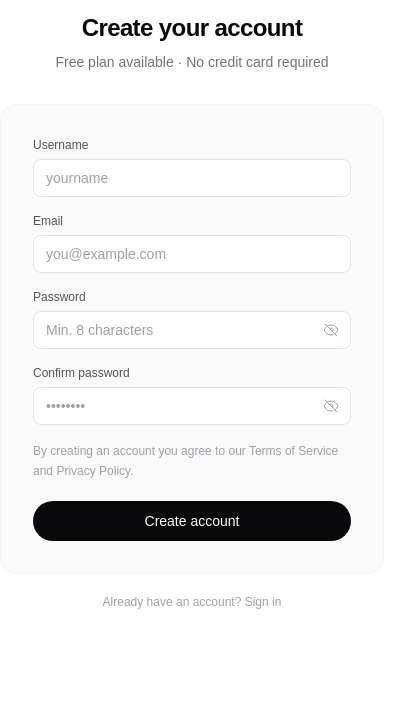
RegisterForm › API registration error › shows a fallback error message when the API returns an error
Type "testuser" into the field labelled "Username" at (192, 178), box [33,159,351,197]
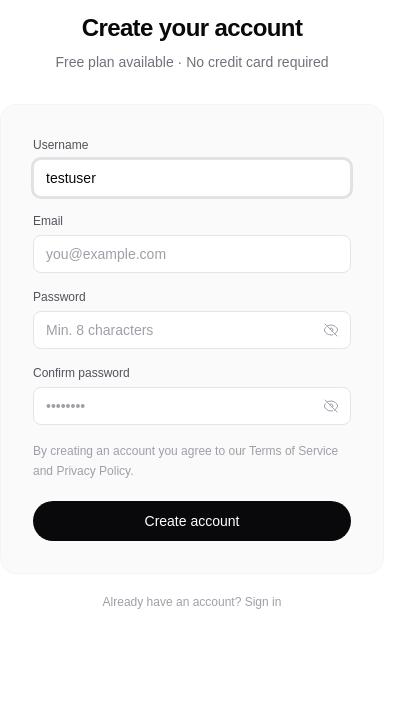
Type "test@example.com" into the field labelled "Email" at (192, 254), box [33,235,351,273]
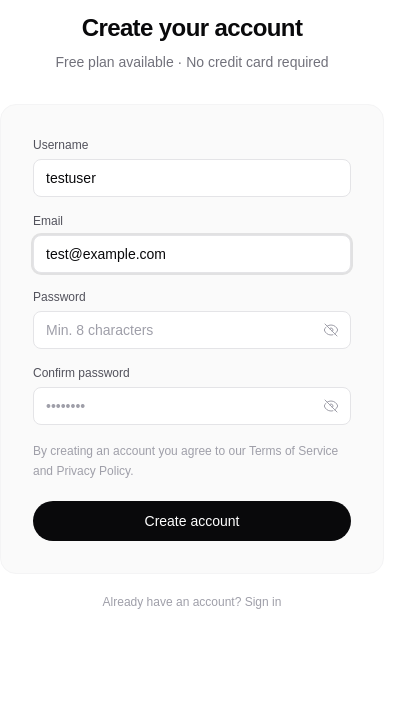
Type "password123" into the password field labelled "Password" at (192, 330), box [33,311,351,349]
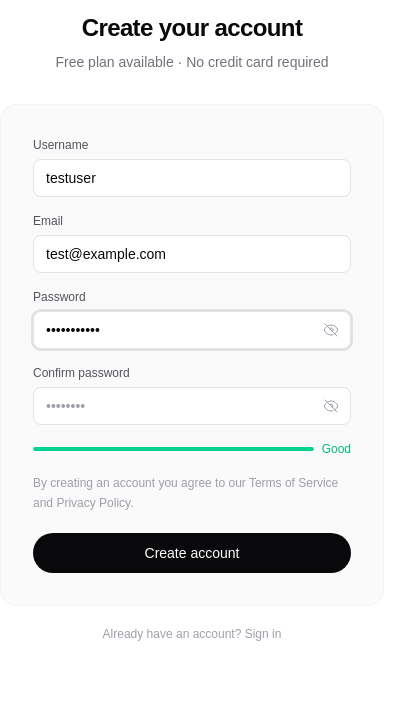
Type "password123" into the password field labelled "Confirm password" at (192, 406), box [33,387,351,425]
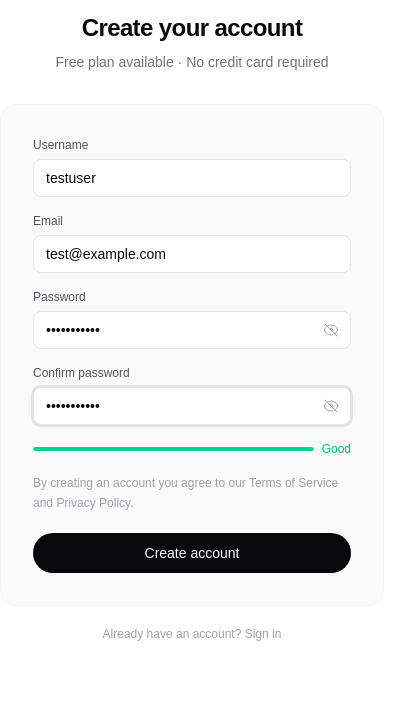
Click the button "Create account" at (192, 553), box [33,533,351,573]
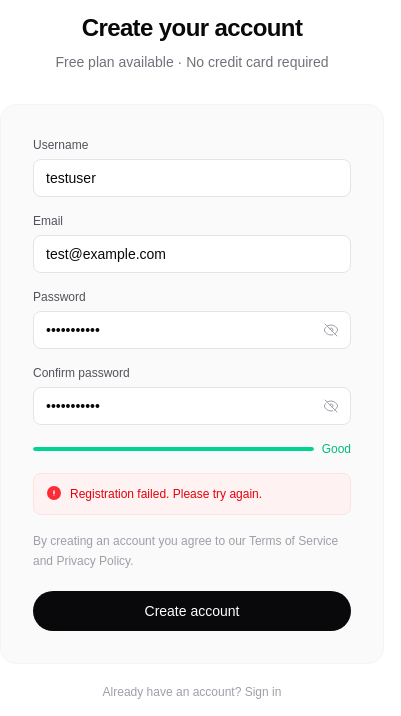
Now the text "Registration failed. Please try again." is shown, box [70,484,262,504]
